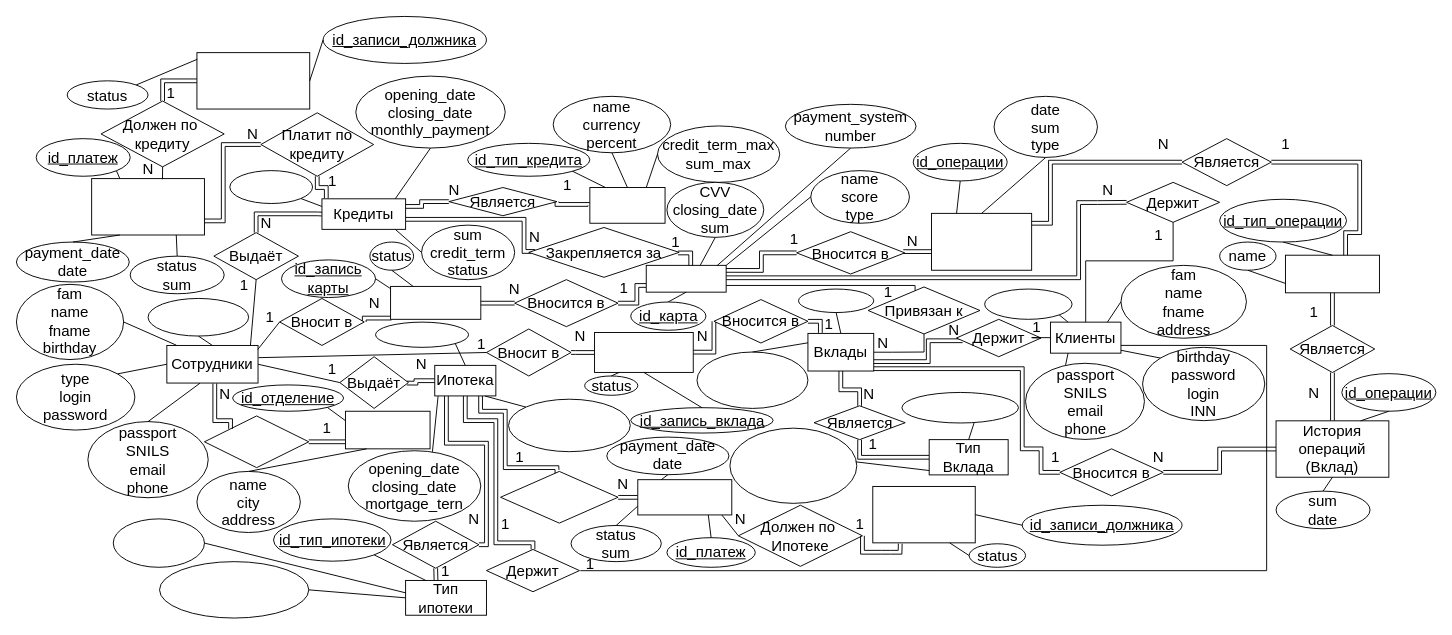
This 1452x635 diagram has some shape labels left out. Here are the shapes that lost their labels. From the top down, the centre of each, then its label:
the point at 253,80: Долговые Записи (Кредит)
the point at 147,206: Платежи кредит
the point at 271,187: id_кредит
the point at 627,205: Тип Кредита
the point at 981,241: История операций (Карта)
the point at 685,278: Карты
the point at 1332,273: Тип Операций
the point at 198,317: id_сотрудник
the point at 435,302: История Карт
the point at 836,300: id_вклад
the point at 1028,303: id_клиент
the point at 422,334: id_ипотека
the point at 643,352: История Вкладов
the point at 752,379: closing_date opening_date sum
the point at 569,425: status monthly_payment sum
the point at 959,407: id_тип_вклада
the point at 256,441: Работает в
the point at 387,429: Отделение
the point at 793,465: deposit_term currency percent name
the point at 559,496: Платит по ипотеке
the point at 684,497: Платежи Ипотека
the point at 923,514: Долговые Записи (Ипотека)
the point at 158,542: name sum_max
the point at 234,589: mortgage_term_max percent
